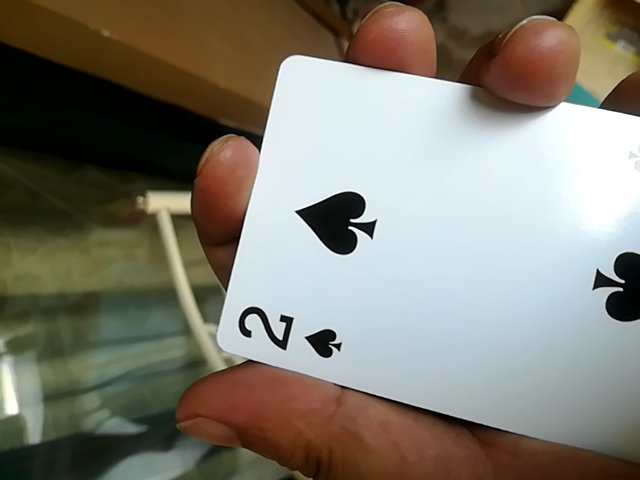ht 2: (195, 66, 632, 454)
